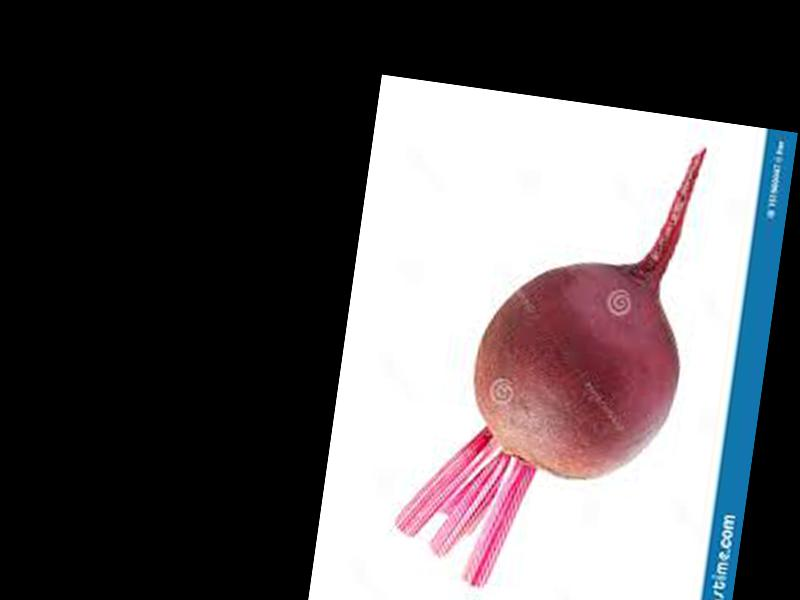Beet: (390, 117, 706, 600)
